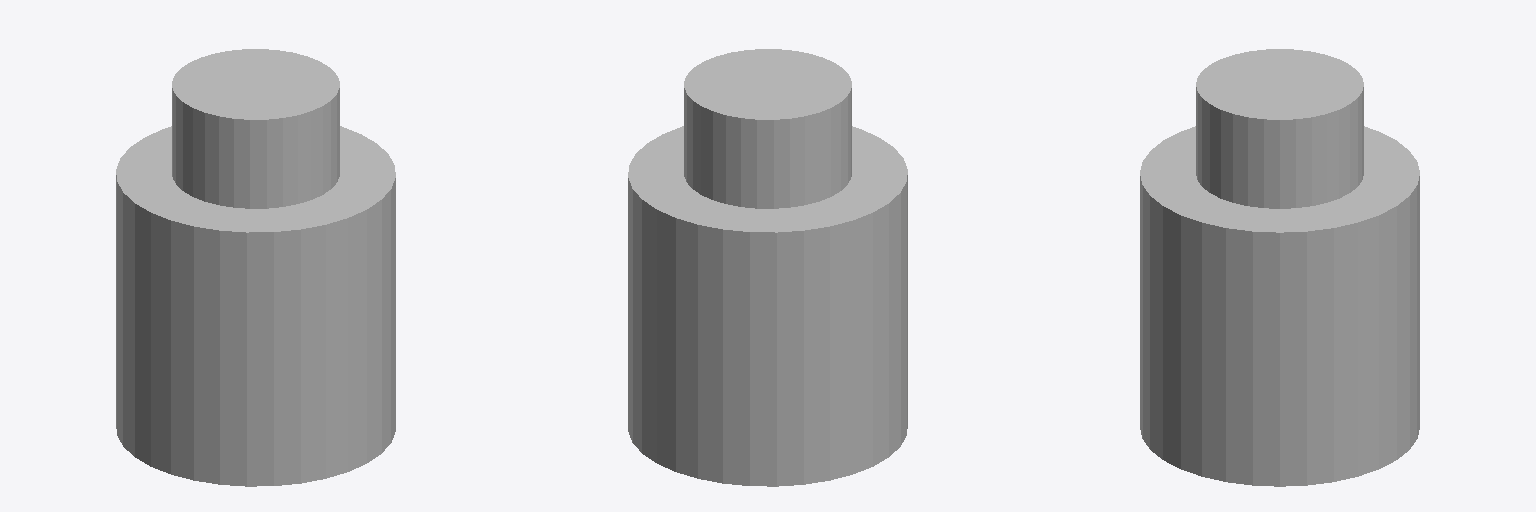
The model's file is head.obj.
3 views of the same model, side by side, from view 1: azimuth 30°, elevation 25°; view 2: azimuth 150°, elevation 25°; view 3: azimuth 270°, elevation 25° (orthographic).
Parts seen in each view (by area): view 1: Cylinder.002; view 2: Cylinder.002; view 3: Cylinder.002.
Boxes of the visible parts, x1=… form: Cylinder.002: x1=116, y1=49, x2=395, y2=486; Cylinder.002: x1=628, y1=49, x2=907, y2=486; Cylinder.002: x1=1140, y1=49, x2=1419, y2=486.
Bounding box in the file's own units: 1.08 × 1.46 × 1.08.